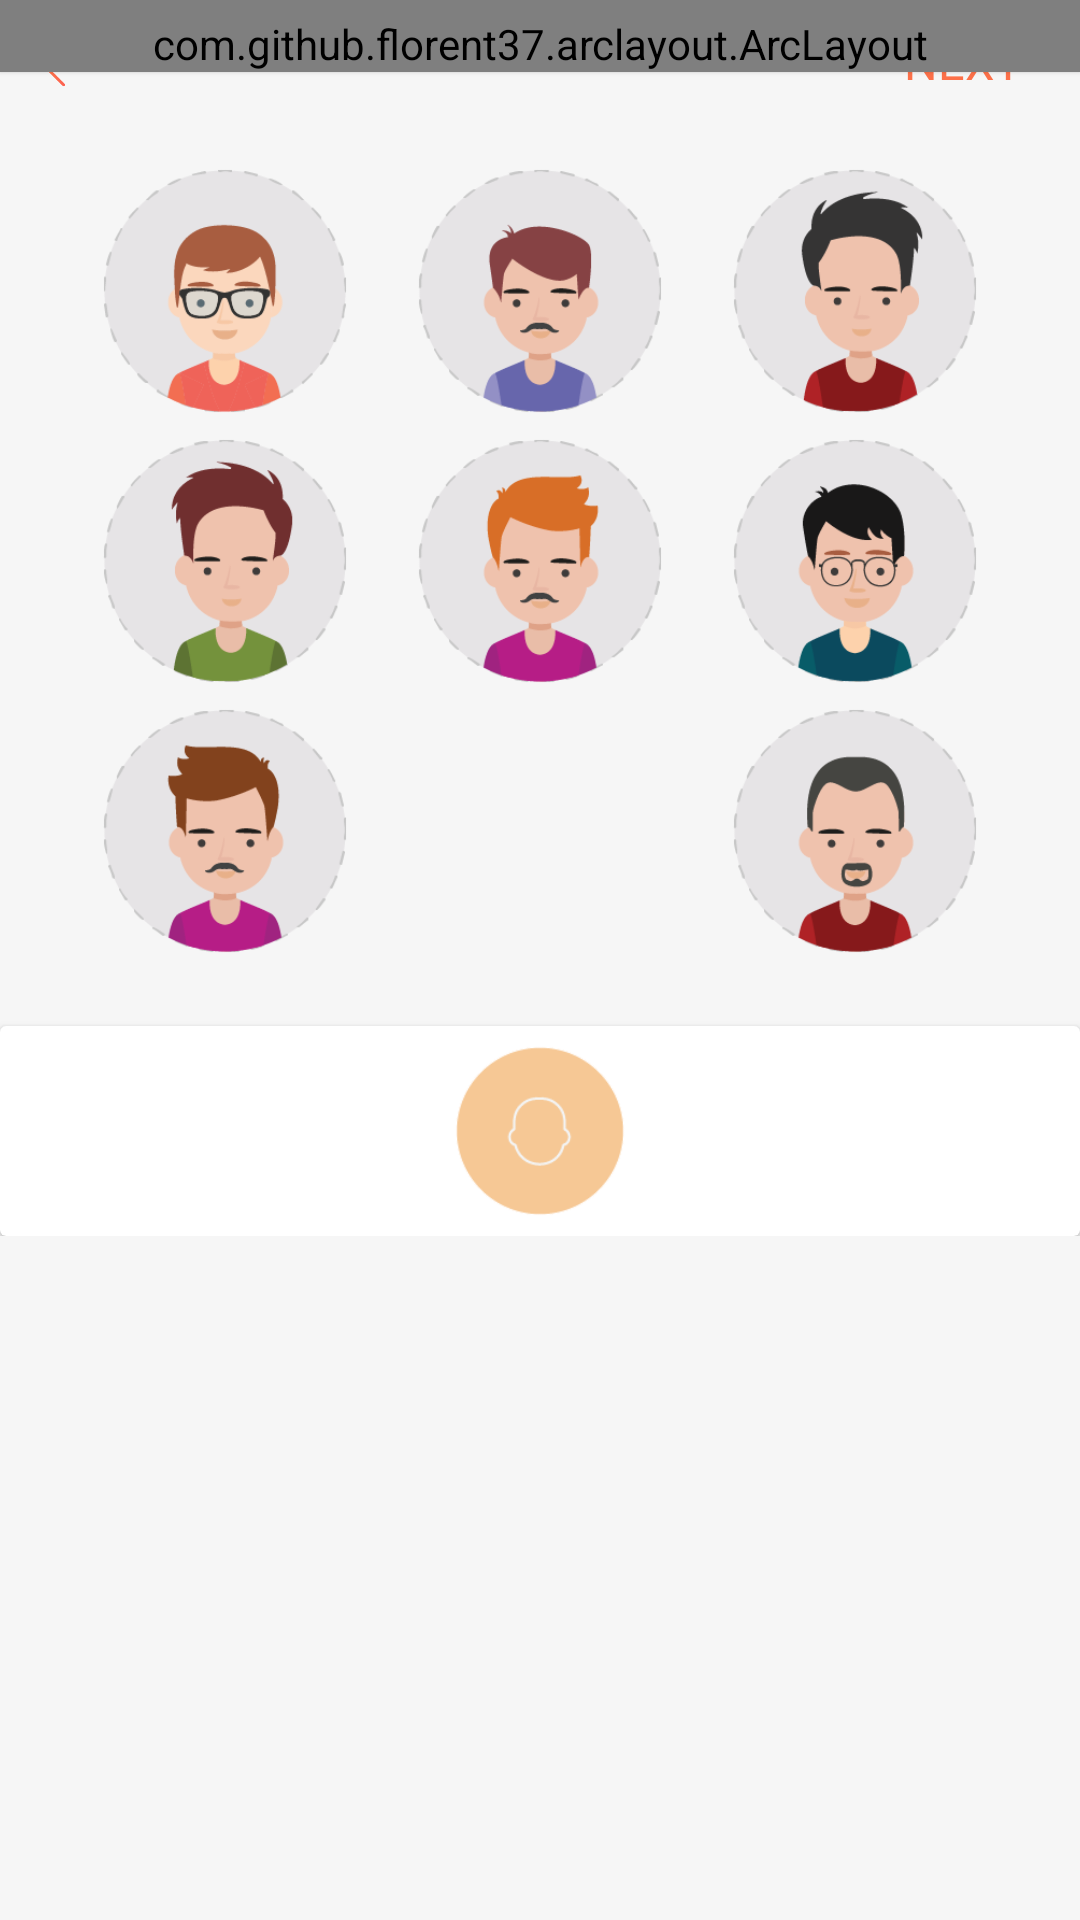

Point at icon controls on the screen. Image size 1080 x 1920, points as [x,y].
character: [225,291], [540,291], [855,291], [225,561], [540,561], [855,561], [225,831], [855,831]
face: [540,1131]
